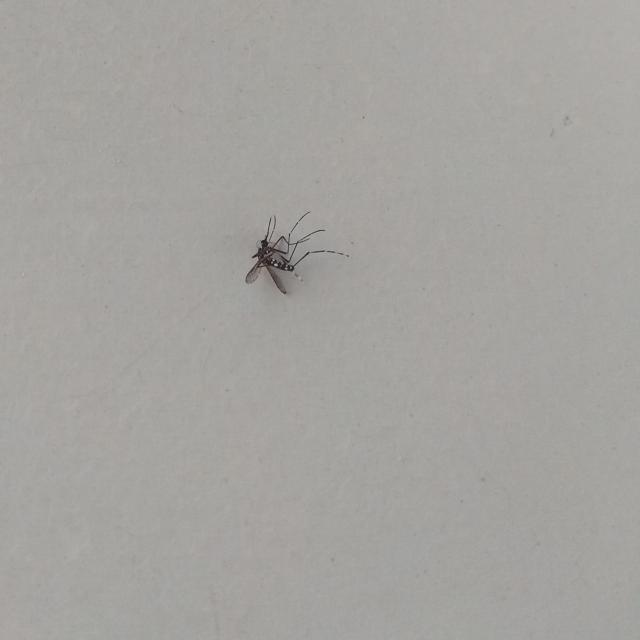albopictus: (239, 202, 351, 296)
